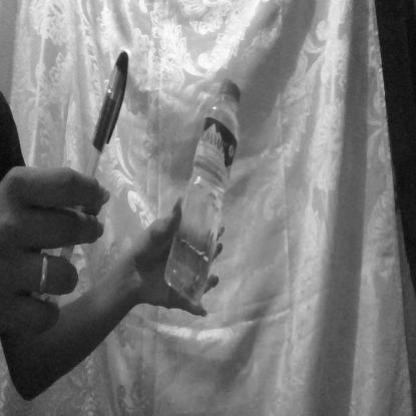Plastic Bottle: (165, 75, 254, 301)
